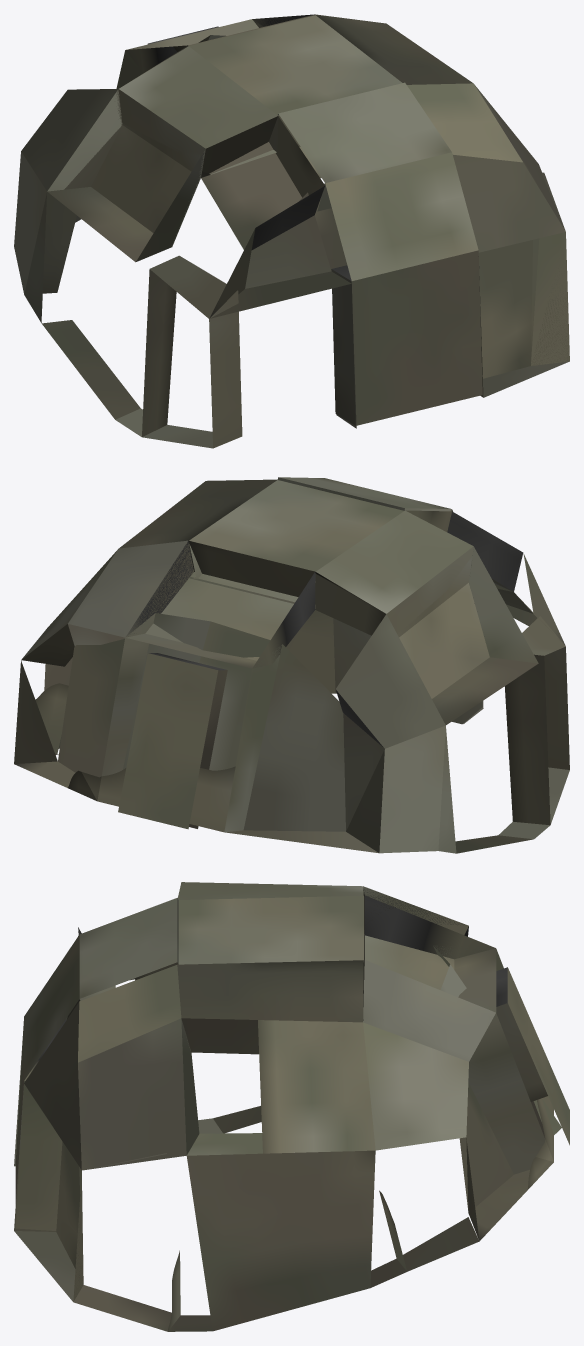
File: osprey_h.obj
The picture shows the model from 3 angles, top to bottom: view 1: azimuth 30°, elevation 25°; view 2: azimuth 150°, elevation 25°; view 3: azimuth 270°, elevation 25°; orthographic projection. The views are drawn at different scales.
Visible parts, largest first — view 1: mesh; view 2: mesh; view 3: mesh.
Part boxes in pixels (x1=…): mesh: x1=14, y1=14, x2=569, y2=448; mesh: x1=14, y1=477, x2=569, y2=853; mesh: x1=14, y1=882, x2=569, y2=1331.
Bounding box in the file's own units: 0.7431 × 0.4887 × 0.8194.
